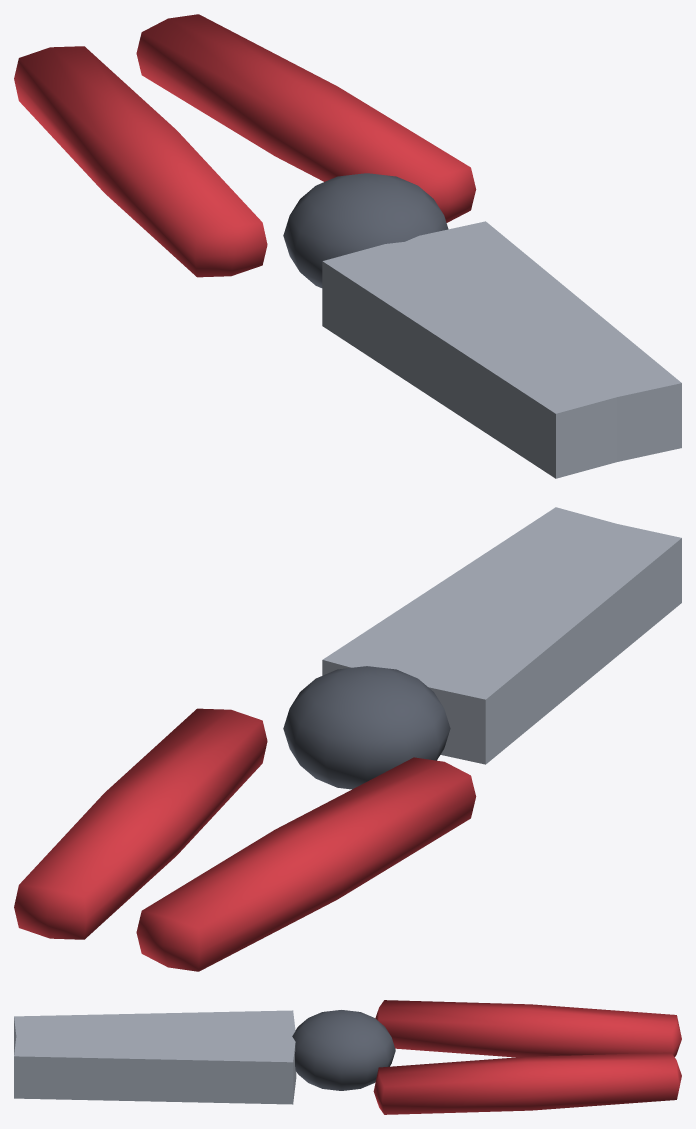
The model's file is pliers.glb.
The picture shows the model from 3 angles, top to bottom: view 1: azimuth 30°, elevation 25°; view 2: azimuth 150°, elevation 25°; view 3: azimuth 270°, elevation 25°; orthographic projection. The views are drawn at different scales.
Visible parts, largest first — view 1: root; view 2: root; view 3: root.
Boxes of the visible parts, left/top/right/bottom form: root: left=14, top=14, right=681, bottom=478; root: left=14, top=507, right=681, bottom=971; root: left=14, top=1000, right=681, bottom=1114.
Size of the model in its own units: 0.1358 by 0.049 by 0.4302.
